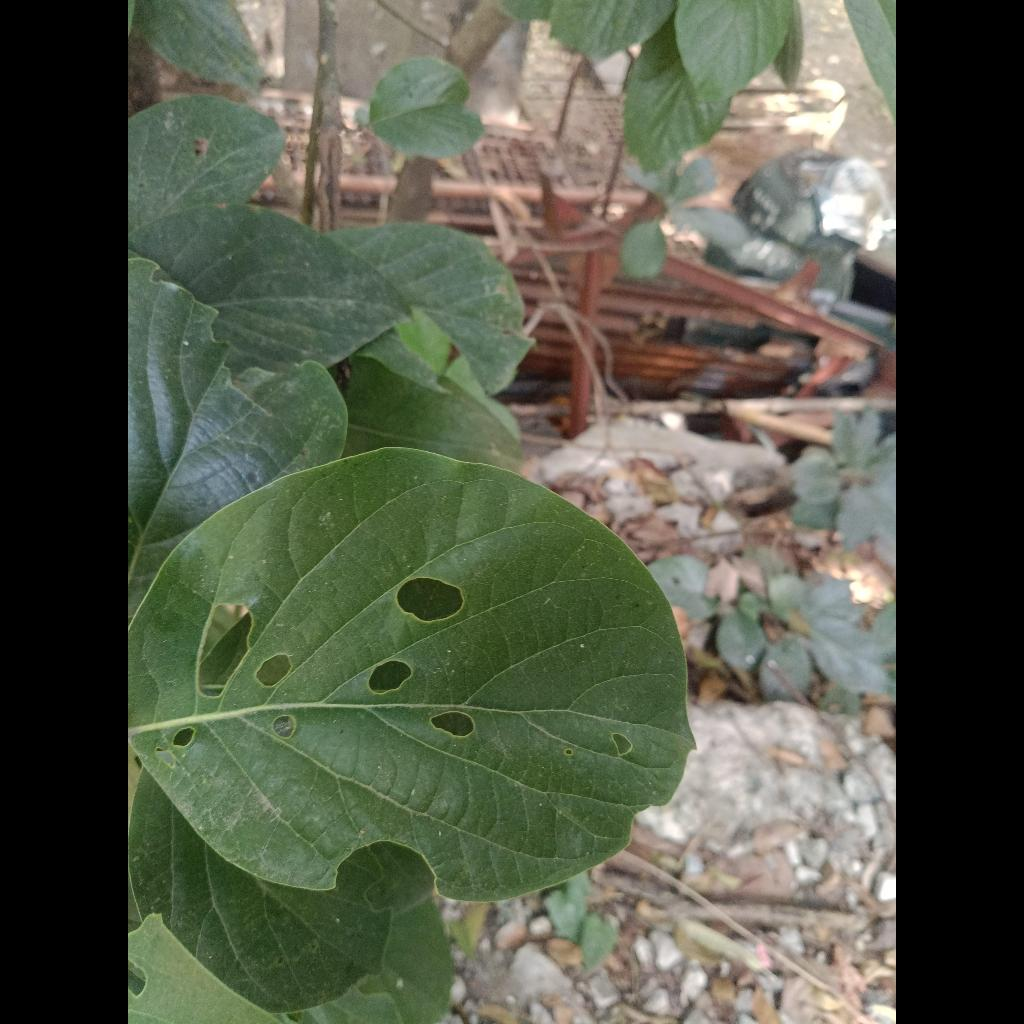plaga: (128, 448, 691, 900)
